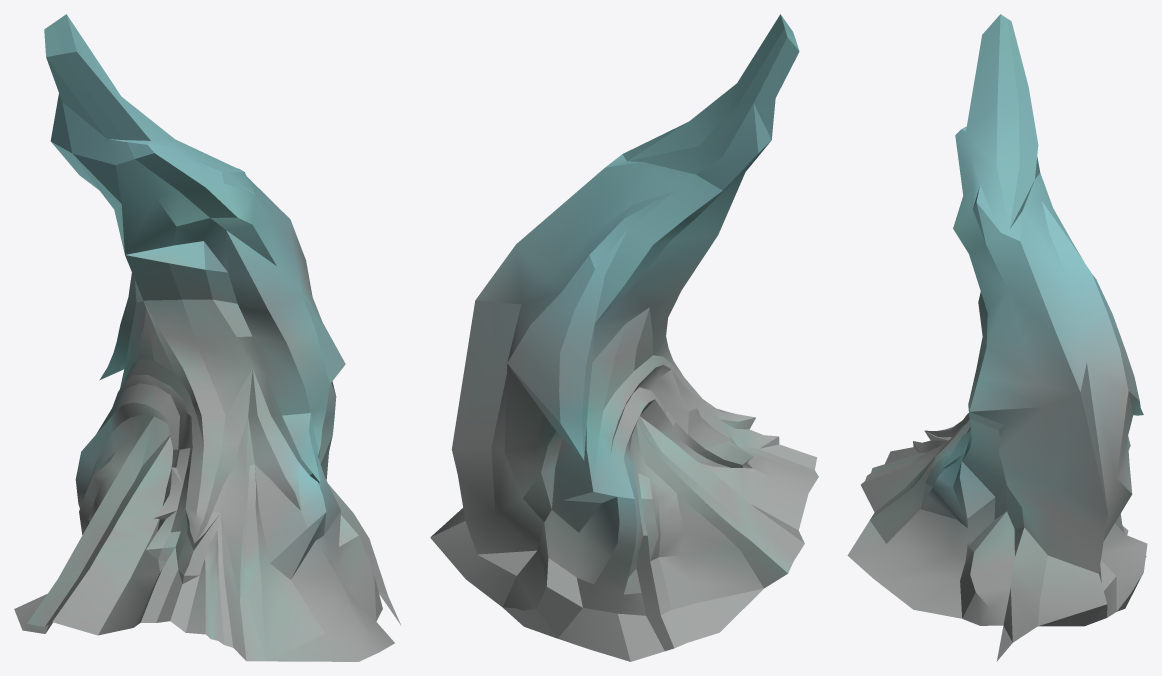
The picture shows the model from 3 angles, left to right: view 1: azimuth 30°, elevation 25°; view 2: azimuth 150°, elevation 25°; view 3: azimuth 270°, elevation 25°; orthographic projection. The views are drawn at different scales.
Parts seen in each view (by area): view 1: G:\FFXIV-MapTools\exports\l1f1\bg\ffxiv\lak_l1\fld\l1f1\bgpa; view 2: G:\FFXIV-MapTools\exports\l1f1\bg\ffxiv\lak_l1\fld\l1f1\bgpa; view 3: G:\FFXIV-MapTools\exports\l1f1\bg\ffxiv\lak_l1\fld\l1f1\bgpa.
Boxes of the visible parts, left/top/right/bottom form: G:\FFXIV-MapTools\exports\l1f1\bg\ffxiv\lak_l1\fld\l1f1\bgpa: left=14, top=14, right=401, bottom=661; G:\FFXIV-MapTools\exports\l1f1\bg\ffxiv\lak_l1\fld\l1f1\bgpa: left=430, top=14, right=818, bottom=661; G:\FFXIV-MapTools\exports\l1f1\bg\ffxiv\lak_l1\fld\l1f1\bgpa: left=847, top=14, right=1147, bottom=661.
Bounding box in the file's own units: 12.34 × 22.88 × 11.86.
